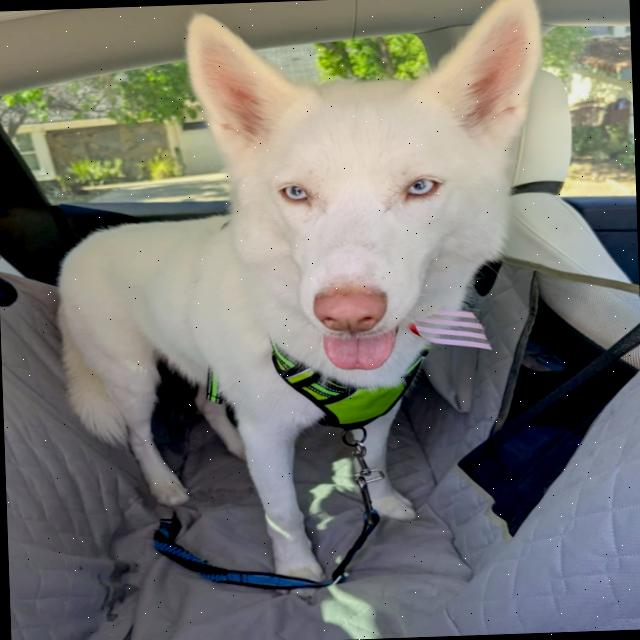siberian_husky_dog: (156, 0, 567, 408)
